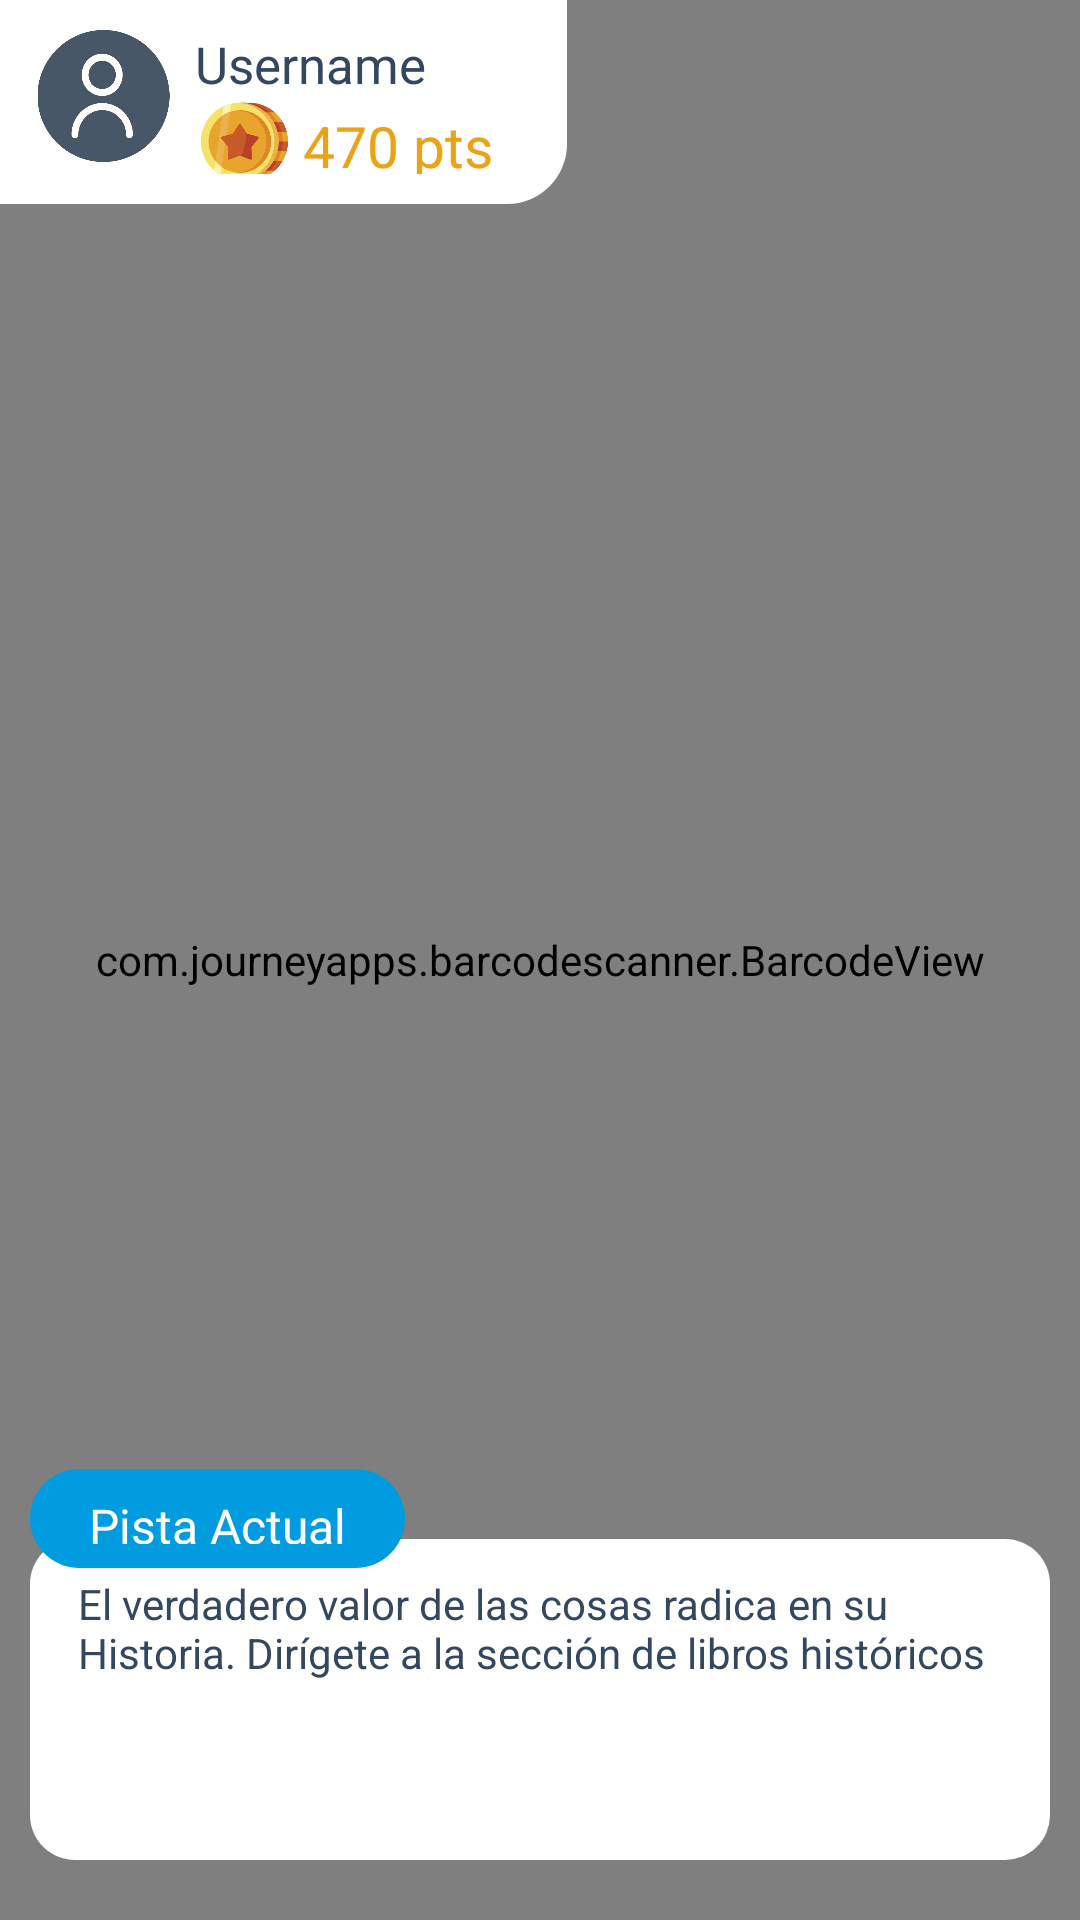

Icons on this 1080*1920 Android screen, each with the point to tap as point (x, y):
money: point (244, 138)
